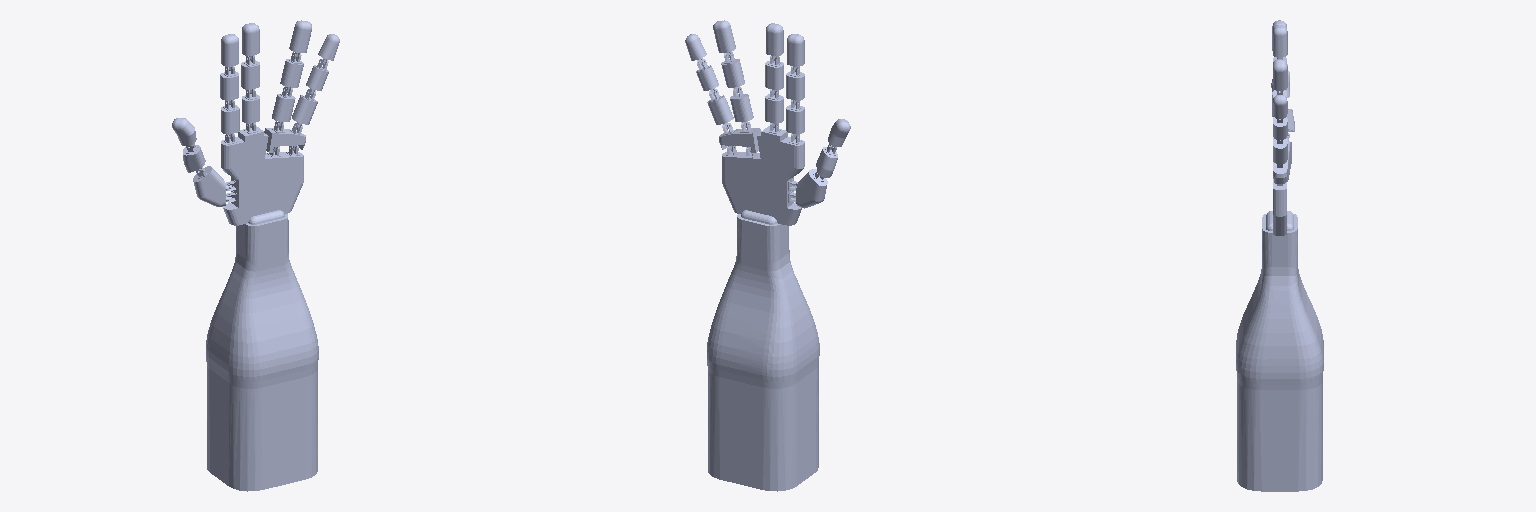
The robot description file, URDF, robot "simple_hand_5":
<?xml version="1.0" encoding="utf-8"?>
<!-- This URDF was automatically created by SolidWorks to URDF Exporter! Originally created by [author] ([email redacted]) 
     Commit Version: 1.6.0-1-g15f4949  Build Version: 1.6.7594.29634
     For more information, please see http://wiki.ros.org/sw_urdf_exporter -->
<robot
  name="simple_hand_5">
  <link
    name="base_link">
    <inertial>
      <origin
        xyz="-0.00188643436581484 7.91792044075349E-07 -0.0101107102609225"
        rpy="0 0 0" />
      <mass
        value="0.0547254839327603" />
      <inertia
        ixx="3.01578866609305E-05"
        ixy="2.75922512250193E-11"
        ixz="5.77313895814659E-06"
        iyy="4.6585768516949E-05"
        iyz="-3.08656421612924E-11"
        izz="1.82716186853849E-05" />
    </inertial>
    <visual>
      <origin
        xyz="0 0 0"
        rpy="0 0 0" />
      <geometry>
        <mesh
          filename="package://simple_hand_5/meshes/base_link.STL" />
      </geometry>
      <material
        name="">
        <color
          rgba="0.792156862745098 0.819607843137255 0.933333333333333 1" />
      </material>
    </visual>
    <collision>
      <origin
        xyz="0 0 0"
        rpy="0 0 0" />
      <geometry>
        <mesh
          filename="package://simple_hand_5/meshes/base_link.STL" />
      </geometry>
    </collision>
  </link>
  
  <link
    name = "t1_p_r2">
  </link>



  
  <joint
    name="thumb_palm"
    type="revolute">
    <origin
      xyz="-0.031 0 -0.0115"
      rpy="1.5708 -1.5232 -1.5708" />
    <parent
      link="base_link" />
    <child
      link="t1_p_r2" />
    <axis
      xyz="0.99887 0.047565 0" />
    <limit
      lower = "0"
      upper = "3.14159"
      effort="0"
      velocity="0" />
  </joint>

<link
    name="thumb_1">
    <inertial>
      <origin
        xyz="0.00656446410149199 0.00282639091707574 0.0153481144781045"
        rpy="0 0 0" />
      <mass
        value="0.00714658380829061" />
      <inertia
        ixx="3.28914052674748E-07"
        ixy="-3.19687494176202E-08"
        ixz="-8.92562543532266E-08"
        iyy="6.60299918641596E-07"
        iyz="-3.39907364457903E-08"
        izz="4.98668271185561E-07" />
    </inertial>
    <visual>
      <origin
        xyz="0 0 0"
        rpy="0 0 0" />
      <geometry>
        <mesh
          filename="package://simple_hand_5/meshes/thumb_1.STL" />
      </geometry>
      <material
        name="">
        <color
          rgba="0.792156862745098 0.819607843137255 0.933333333333333 1" />
      </material>
    </visual>
    <collision>
      <origin
        xyz="0 0 0"
        rpy="0 0 0" />
      <geometry>
        <mesh
          filename="package://simple_hand_5/meshes/thumb_1.STL" />
      </geometry>
    </collision>
  </link>


  <joint
    name="thumb_palm_updown"
    type="revolute">
    <origin
      xyz="0 0 0"
      rpy="0 0 0" />
    <parent
      link="t1_p_r2" />
    <child 
      link="thumb_1" />
    <axis
      xyz = "0 0 1" />
    <limit
      lower = "-1.5708"
      upper = "0"
      effort="0"
      velocity="0" />
  </joint>

  <link
    name="thumb_2">
    <inertial>
      <origin
        xyz="-0.000102121572845965 -0.00217472327567361 0.012595104514116"
        rpy="0 0 0" />
      <mass
        value="0.00309410697808252" />
      <inertia
        ixx="1.17680540570393E-07"
        ixy="4.78391767561254E-11"
        ixz="1.39867654791037E-11"
        iyy="8.75805619352312E-08"
        iyz="1.03790100805231E-08"
        izz="9.28672220581694E-08" />
    </inertial>
    <visual>
      <origin
        xyz="0 0 0"
        rpy="0 0 0" />
      <geometry>
        <mesh
          filename="package://simple_hand_5/meshes/thumb_2.STL" />
      </geometry>
      <material
        name="">
        <color
          rgba="0.792156862745098 0.819607843137255 0.933333333333333 1" />
      </material>
    </visual>
    <collision>
      <origin
        xyz="0 0 0"
        rpy="0 0 0" />
      <geometry>
        <mesh
          filename="package://simple_hand_5/meshes/thumb_2.STL" />
      </geometry>
    </collision>
  </link>
  <joint
    name="thumb_12"
    type="revolute">
    <origin
      xyz="0.024224 0.0052935 0.025382"
      rpy="0.85599 0.59602 1.2791" />
    <parent
      link="thumb_1" />
    <child
      link="thumb_2" />
    <axis
      xyz="1 0 0" />
    <limit
      lower = "0"
      upper = "1.7"
      effort="0"
      velocity="0" />
  </joint>
  <link
    name="thumb_3">
    <inertial>
      <origin
        xyz="-9.44001340211012E-05 0.000348151680325703 0.0149921053155283"
        rpy="0 0 0" />
      <mass
        value="0.00324861748801509" />
      <inertia
        ixx="1.54481533062546E-07"
        ixy="1.31041991197193E-12"
        ixz="-7.05991802677412E-13"
        iyy="1.38772740672812E-07"
        iyz="-1.39147869891025E-08"
        izz="7.86601648265061E-08" />
    </inertial>
    <visual>
      <origin
        xyz="0 0 0"
        rpy="0 0 0" />
      <geometry>
        <mesh
          filename="package://simple_hand_5/meshes/thumb_3.STL" />
      </geometry>
      <material
        name="">
        <color
          rgba="0.792156862745098 0.819607843137255 0.933333333333333 1" />
      </material>
    </visual>
    <collision>
      <origin
        xyz="0 0 0"
        rpy="0 0 0" />
      <geometry>
        <mesh
          filename="package://simple_hand_5/meshes/thumb_3.STL" />
      </geometry>
    </collision>
  </link>
  <joint
    name="thumb_23"
    type="revolute">
    <origin
      xyz="-0.00021585 -0.0073345 0.025772"
      rpy="0.26232 0.045694 -0.1685" />
    <parent
      link="thumb_2" />
    <child
      link="thumb_3" />
    <axis
      xyz="1 0 0" />
    <limit
      lower = "0"
      upper = "1.5708"
      effort="0"
      velocity="0" />
  </joint>
  <link
    name="index_1">
    <inertial>
      <origin
        xyz="-0.000100909995287488 -8.81239705495312E-05 0.0146314105773068"
        rpy="0 0 0" />
      <mass
        value="0.00331457639559618" />
      <inertia
        ixx="1.2323138903352E-07"
        ixy="-5.10048425602026E-22"
        ixz="6.26173426863822E-22"
        iyy="1.40564829901929E-07"
        iyz="-2.40449794199163E-20"
        izz="8.32166997991831E-08" />
    </inertial>
    <visual>
      <origin
        xyz="0 0 0"
        rpy="0 0 0" />
      <geometry>
        <mesh
          filename="package://simple_hand_5/meshes/index_1.STL" />
      </geometry>
      <material
        name="">
        <color
          rgba="0.792156862745098 0.819607843137255 0.933333333333333 1" />
      </material>
    </visual>
    <collision>
      <origin
        xyz="0 0 0"
        rpy="0 0 0" />
      <geometry>
        <mesh
          filename="package://simple_hand_5/meshes/index_1.STL" />
      </geometry>
    </collision>
  </link>
  <joint
    name="index_palm"
    type="revolute">
    <origin
      xyz="-0.0299 -0.000100000000000094 0.0385"
      rpy="0 0 0" />
    <parent
      link="base_link" />
    <child
      link="index_1" />
    <axis
      xyz="1 0 0" />
    <limit
      lower = "0"
      upper = "1.5708"
      effort="0"
      velocity="0" />
  </joint>
  <link
    name="index_2">
    <inertial>
      <origin
        xyz="-8.81239705526511E-05 8.81239705554417E-05 0.0146314105773068"
        rpy="0 0 0" />
      <mass
        value="0.00331457639559618" />
      <inertia
        ixx="1.2323138903352E-07"
        ixy="-5.08712711187573E-22"
        ixz="6.31594302457078E-22"
        iyy="1.40564829901929E-07"
        iyz="-2.3991825209698E-20"
        izz="8.32166997991831E-08" />
    </inertial>
    <visual>
      <origin
        xyz="0 0 0"
        rpy="0 0 0" />
      <geometry>
        <mesh
          filename="package://simple_hand_5/meshes/index_2.STL" />
      </geometry>
      <material
        name="">
        <color
          rgba="0.792156862745098 0.819607843137255 0.933333333333333 1" />
      </material>
    </visual>
    <collision>
      <origin
        xyz="0 0 0"
        rpy="0 0 0" />
      <geometry>
        <mesh
          filename="package://simple_hand_5/meshes/index_2.STL" />
      </geometry>
    </collision>
  </link>
  <joint
    name="index_12"
    type="revolute">
    <origin
      xyz="-0.000199999999999954 0 0.03"
      rpy="0 0 0" />
    <parent
      link="index_1" />
    <child
      link="index_2" />
    <axis
      xyz="1 0 0" />
    <limit
      lower = "0"
      upper = "1.5708"
      effort="0"
      velocity="0" />
  </joint>
  <link
    name="index_3">
    <inertial>
      <origin
        xyz="9.48443246826178E-05 -9.48443246826158E-05 0.0161226051015444"
        rpy="0 0 0" />
      <mass
        value="0.00352502395351663" />
      <inertia
        ixx="1.85717997302154E-07"
        ixy="6.14468395293522E-24"
        ixz="3.18734172922331E-23"
        iyy="1.97300854531169E-07"
        iyz="-4.20529993328854E-23"
        izz="8.01006878176001E-08" />
    </inertial>
    <visual>
      <origin
        xyz="0 0 0"
        rpy="0 0 0" />
      <geometry>
        <mesh
          filename="package://simple_hand_5/meshes/index_3.STL" />
      </geometry>
      <material
        name="">
        <color
          rgba="0.792156862745098 0.819607843137255 0.933333333333333 1" />
      </material>
    </visual>
    <collision>
      <origin
        xyz="0 0 0"
        rpy="0 0 0" />
      <geometry>
        <mesh
          filename="package://simple_hand_5/meshes/index_3.STL" />
      </geometry>
    </collision>
  </link>
  <joint
    name="index_23"
    type="revolute">
    <origin
      xyz="0 0 0.03"
      rpy="0 0 0" />
    <parent
      link="index_2" />
    <child
      link="index_3" />
    <axis
      xyz="1 0 0" />
    <limit
      lower = "0"
      upper = "1.5708"
      effort="0"
      velocity="0" />
  </joint>
  <link
    name="middle_1">
    <inertial>
      <origin
        xyz="-0.000100909995287489 -8.81239705493853E-05 0.0146314105773068"
        rpy="0 0 0" />
      <mass
        value="0.00331457639559618" />
      <inertia
        ixx="1.2323138903352E-07"
        ixy="-5.09096000185458E-22"
        ixz="6.33570028542927E-22"
        iyy="1.40564829901929E-07"
        iyz="-2.39760052887731E-20"
        izz="8.32166997991831E-08" />
    </inertial>
    <visual>
      <origin
        xyz="0 0 0"
        rpy="0 0 0" />
      <geometry>
        <mesh
          filename="package://simple_hand_5/meshes/middle_1.STL" />
      </geometry>
      <material
        name="">
        <color
          rgba="0.792156862745098 0.819607843137255 0.933333333333333 1" />
      </material>
    </visual>
    <collision>
      <origin
        xyz="0 0 0"
        rpy="0 0 0" />
      <geometry>
        <mesh
          filename="package://simple_hand_5/meshes/middle_1.STL" />
      </geometry>
    </collision>
  </link>
  <joint
    name="middle_palm"
    type="revolute">
    <origin
      xyz="-0.0104 9.99999999997445E-05 0.0435"
      rpy="0 0 0" />
    <parent
      link="base_link" />
    <child
      link="middle_1" />
    <axis
      xyz="1 0 0" />
    <limit
      lower = "0"
      upper = "1.5708"
      effort="0"
      velocity="0" />
  </joint>
  <link
    name="middle_2">
    <inertial>
      <origin
        xyz="-0.000100909995287486 8.81239705554263E-05 0.0146314105773068"
        rpy="0 0 0" />
      <mass
        value="0.00331457639559618" />
      <inertia
        ixx="1.2323138903352E-07"
        ixy="-5.09099193868169E-22"
        ixz="6.16644623926683E-22"
        iyy="1.40564829901928E-07"
        iyz="-2.40115634515997E-20"
        izz="8.32166997991831E-08" />
    </inertial>
    <visual>
      <origin
        xyz="0 0 0"
        rpy="0 0 0" />
      <geometry>
        <mesh
          filename="package://simple_hand_5/meshes/middle_2.STL" />
      </geometry>
      <material
        name="">
        <color
          rgba="0.792156862745098 0.819607843137255 0.933333333333333 1" />
      </material>
    </visual>
    <collision>
      <origin
        xyz="0 0 0"
        rpy="0 0 0" />
      <geometry>
        <mesh
          filename="package://simple_hand_5/meshes/middle_2.STL" />
      </geometry>
    </collision>
  </link>
  <joint
    name="middle_12"
    type="revolute">
    <origin
      xyz="-0.0002 0 0.03"
      rpy="0 0 0" />
    <parent
      link="middle_1" />
    <child
      link="middle_2" />
    <axis
      xyz="1 0 0" />
    <limit
      lower="0"
      upper="1.5708"
      effort="0"
      velocity="0" />
  </joint>
  <link
    name="middle_3">
    <inertial>
      <origin
        xyz="9.4844324682623E-05 9.48443246826267E-05 0.0161226051015443"
        rpy="0 0 0" />
      <mass
        value="0.00352502395351663" />
      <inertia
        ixx="1.85717997302155E-07"
        ixy="-1.782444112259E-24"
        ixz="-1.37156296528957E-23"
        iyy="1.97300854531171E-07"
        iyz="-3.01893462654807E-23"
        izz="8.01006878176001E-08" />
    </inertial>
    <visual>
      <origin
        xyz="0 0 0"
        rpy="0 0 0" />
      <geometry>
        <mesh
          filename="package://simple_hand_5/meshes/middle_3.STL" />
      </geometry>
      <material
        name="">
        <color
          rgba="0.792156862745098 0.819607843137255 0.933333333333333 1" />
      </material>
    </visual>
    <collision>
      <origin
        xyz="0 0 0"
        rpy="0 0 0" />
      <geometry>
        <mesh
          filename="package://simple_hand_5/meshes/middle_3.STL" />
      </geometry>
    </collision>
  </link>
  <joint
    name="middle_23"
    type="revolute">
    <origin
      xyz="-0.0002 0 0.03"
      rpy="0 0 0" />
    <parent
      link="middle_2" />
    <child
      link="middle_3" />
    <axis
      xyz="1 0 0" />
    <limit
      lower = "0"
      upper = "1.5708"
      effort="0"
      velocity="0" />
  </joint>
  <link
    name="ring_pinky_extra">
    <inertial>
      <origin
        xyz="-0.00218597870944811 8.3372865158956E-05 0.00920103616520317"
        rpy="0 0 0" />
      <mass
        value="0.00474638182867952" />
      <inertia
        ixx="1.07151593956447E-07"
        ixy="3.51645516818867E-12"
        ixz="1.82537199834801E-08"
        iyy="4.81107731413793E-07"
        iyz="-1.21973810407742E-12"
        izz="4.79343757387016E-07" />
    </inertial>
    <visual>
      <origin
        xyz="0 0 0"
        rpy="0 0 0" />
      <geometry>
        <mesh
          filename="package://simple_hand_5/meshes/ring_pinky_extra.STL" />
      </geometry>
      <material
        name="">
        <color
          rgba="0.792156862745098 0.819607843137255 0.933333333333333 1" />
      </material>
    </visual>
    <collision>
      <origin
        xyz="0 0 0"
        rpy="0 0 0" />
      <geometry>
        <mesh
          filename="package://simple_hand_5/meshes/ring_pinky_extra.STL" />
      </geometry>
    </collision>
  </link>
  <joint
    name="rp_palm"
    type="fixed">
    <origin
      xyz="0.020827 0.0001 0.015339"
      rpy="0 0.17453 0" />
    <parent
      link="base_link" />
    <child
      link="ring_pinky_extra" />
<!--     <axis
      xyz="1 0 0" /> -->
  </joint>
  <link
    name="ring_1">
    <inertial>
      <origin
        xyz="-8.8123970554731E-05 -8.81239705502135E-05 0.014631410577307"
        rpy="0 0 0" />
      <mass
        value="0.00331457639559613" />
      <inertia
        ixx="1.23231389033519E-07"
        ixy="-5.3866823701568E-22"
        ixz="6.60090128817321E-22"
        iyy="1.40564829901928E-07"
        iyz="-2.4173296286093E-20"
        izz="8.32166997991829E-08" />
    </inertial>
    <visual>
      <origin
        xyz="0 0 0"
        rpy="0 0 0" />
      <geometry>
        <mesh
          filename="package://simple_hand_5/meshes/ring_1.STL" />
      </geometry>
      <material
        name="">
        <color
          rgba="0.792156862745098 0.819607843137255 0.933333333333333 1" />
      </material>
    </visual>
    <collision>
      <origin
        xyz="0 0 0"
        rpy="0 0 0" />
      <geometry>
        <mesh
          filename="package://simple_hand_5/meshes/ring_1.STL" />
      </geometry>
    </collision>
  </link>
  <joint
    name="ring_rp"
    type="revolute">
    <origin
      xyz="-0.00835527166225281 0 0.0211859535805005"
      rpy="0 0.08726646259971 0" />
    <parent
      link="ring_pinky_extra" />
    <child
      link="ring_1" />
    <axis
      xyz="1 0 0" />
    <limit
      lower = "0"
      upper = "1.5708"
      effort="0"
      velocity="0" />
  </joint>
  <link
    name="ring_2">
    <inertial>
      <origin
        xyz="0.00010090999528703 -0.000100909995285028 0.014631410577307"
        rpy="0 0 0" />
      <mass
        value="0.00331457639559613" />
      <inertia
        ixx="1.2323138903352E-07"
        ixy="-5.46028125220579E-22"
        ixz="9.89308012613422E-22"
        iyy="1.40564829901928E-07"
        iyz="-2.41851050166125E-20"
        izz="8.3216699799183E-08" />
    </inertial>
    <visual>
      <origin
        xyz="0 0 0"
        rpy="0 0 0" />
      <geometry>
        <mesh
          filename="package://simple_hand_5/meshes/ring_2.STL" />
      </geometry>
      <material
        name="">
        <color
          rgba="0.792156862745098 0.819607843137255 0.933333333333333 1" />
      </material>
    </visual>
    <collision>
      <origin
        xyz="0 0 0"
        rpy="0 0 0" />
      <geometry>
        <mesh
          filename="package://simple_hand_5/meshes/ring_2.STL" />
      </geometry>
    </collision>
  </link>
  <joint
    name="ring_12"
    type="revolute">
    <origin
      xyz="0 0 0.03"
      rpy="0 0 0" />
    <parent
      link="ring_1" />
    <child
      link="ring_2" />
    <axis
      xyz="1 0 0" />
    <limit
      lower = "0"
      upper = "1.5708"
      effort="0"
      velocity="0" />
  </joint>
  <link
    name="ring_3">
    <inertial>
      <origin
        xyz="9.48443246822361E-05 9.48443246819254E-05 0.0161226051015448"
        rpy="0 0 0" />
      <mass
        value="0.00352502395351663" />
      <inertia
        ixx="1.85717997302152E-07"
        ixy="-1.89423522291191E-23"
        ixz="8.18908806427496E-22"
        iyy="1.97300854531167E-07"
        iyz="6.06190709170196E-23"
        izz="8.01006878176002E-08" />
    </inertial>
    <visual>
      <origin
        xyz="0 0 0"
        rpy="0 0 0" />
      <geometry>
        <mesh
          filename="package://simple_hand_5/meshes/ring_3.STL" />
      </geometry>
      <material
        name="">
        <color
          rgba="0.792156862745098 0.819607843137255 0.933333333333333 1" />
      </material>
    </visual>
    <collision>
      <origin
        xyz="0 0 0"
        rpy="0 0 0" />
      <geometry>
        <mesh
          filename="package://simple_hand_5/meshes/ring_3.STL" />
      </geometry>
    </collision>
  </link>
  <joint
    name="ring_23"
    type="revolute">
    <origin
      xyz="0.000199999999999961 -0.000199999999999982 0.03"
      rpy="0 0 0" />
    <parent
      link="ring_2" />
    <child
      link="ring_3" />
    <axis
      xyz="1 0 0" />
    <limit
      lower = "0"
      upper = "1.5708"
      effort="0"
      velocity="0" />
  </joint>
  <link
    name="pinky_1">
    <inertial>
      <origin
        xyz="-0.000100909995290183 0.000100909995290285 0.0146314105773061"
        rpy="0 0 0" />
      <mass
        value="0.00331457639559618" />
      <inertia
        ixx="1.2323138903352E-07"
        ixy="-5.0509194649958E-22"
        ixz="9.36368453410027E-22"
        iyy="1.40564829901929E-07"
        iyz="-2.40935166969695E-20"
        izz="8.32166997991832E-08" />
    </inertial>
    <visual>
      <origin
        xyz="0 0 0"
        rpy="0 0 0" />
      <geometry>
        <mesh
          filename="package://simple_hand_5/meshes/pinky_1.STL" />
      </geometry>
      <material
        name="">
        <color
          rgba="0.792156862745098 0.819607843137255 0.933333333333333 1" />
      </material>
    </visual>
    <collision>
      <origin
        xyz="0 0 0"
        rpy="0 0 0" />
      <geometry>
        <mesh
          filename="package://simple_hand_5/meshes/pinky_1.STL" />
      </geometry>
    </collision>
  </link>
  <joint
    name="pinky_rp"
    type="revolute">
    <origin
      xyz="0.00975174070266939 0 0.0184546186727577"
      rpy="0 0.261799387799152 0" />
    <parent
      link="ring_pinky_extra" />
    <child
      link="pinky_1" />
    <axis
      xyz="1 0 0" />
    <limit
      lower = "0"
      upper = "1.5708"
      effort="0"
      velocity="0" />
  </joint>
  <link
    name="pinky_2">
    <inertial>
      <origin
        xyz="8.38071970207001E-05 -8.38071970183258E-05 0.0129292550716577"
        rpy="0 0 0" />
      <mass
        value="0.00243095694657694" />
      <inertia
        ixx="6.85523277747315E-08"
        ixy="-5.08692986541908E-22"
        ixz="5.57519732860741E-22"
        iyy="7.24913923580196E-08"
        iyz="-2.4018378471524E-20"
        izz="5.02538415032837E-08" />
    </inertial>
    <visual>
      <origin
        xyz="0 0 0"
        rpy="0 0 0" />
      <geometry>
        <mesh
          filename="package://simple_hand_5/meshes/pinky_2.STL" />
      </geometry>
      <material
        name="">
        <color
          rgba="0.792156862745098 0.819607843137255 0.933333333333333 1" />
      </material>
    </visual>
    <collision>
      <origin
        xyz="0 0 0"
        rpy="0 0 0" />
      <geometry>
        <mesh
          filename="package://simple_hand_5/meshes/pinky_2.STL" />
      </geometry>
    </collision>
  </link>
  <joint
    name="pinky_12"
    type="revolute">
    <origin
      xyz="-0.000200000000001081 0.000199999999998815 0.0299999999999998"
      rpy="0 0 0" />
    <parent
      link="pinky_1" />
    <child
      link="pinky_2" />
    <axis
      xyz="1 0 0" />
    <limit
      lower = "0"
      upper = "1.5708"
      effort="0"
      velocity="0" />
  </joint>
  <link
    name="pinky_3">
    <inertial>
      <origin
        xyz="9.19157325409842E-05 -9.19326081215429E-05 0.0130882404924844"
        rpy="0 0 0" />
      <mass
        value="0.00224742035804122" />
      <inertia
        ixx="7.84638438602691E-08"
        ixy="1.75519852392165E-12"
        ixz="7.56151719955334E-15"
        iyy="7.77279503022178E-08"
        iyz="-6.27007156099703E-14"
        izz="4.07217895790225E-08" />
    </inertial>
    <visual>
      <origin
        xyz="0 0 0"
        rpy="0 0 0" />
      <geometry>
        <mesh
          filename="package://simple_hand_5/meshes/pinky_3.STL" />
      </geometry>
      <material
        name="">
        <color
          rgba="0.792156862745098 0.819607843137255 0.933333333333333 1" />
      </material>
    </visual>
    <collision>
      <origin
        xyz="0 0 0"
        rpy="0 0 0" />
      <geometry>
        <mesh
          filename="package://simple_hand_5/meshes/pinky_3.STL" />
      </geometry>
    </collision>
  </link>
  <joint
    name="pinky_23"
    type="revolute">
    <origin
      xyz="0 0 0.0267500000000002"
      rpy="0 0 0" />
    <parent
      link="pinky_2" />
    <child
      link="pinky_3" />
    <axis
      xyz="1 0 0" />
    <limit
      lower = "0"
      upper = "1.5708"
      effort="0"
      velocity="0" />
  </joint>
</robot>

--- Render facts (derived) ---
3 views of the same robot in one strip: view 1: azimuth 30°, elevation 25°; view 2: azimuth 150°, elevation 25°; view 3: azimuth 270°, elevation 25° (orthographic).
Model simple_hand_5 with 18 links and 17 joints (16 revolute, 1 fixed), rooted at base_link, posed all joints at 0.
Links seen in each view (by area): view 1: base_link, thumb_1, ring_pinky_extra, pinky_1, ring_2, ring_1, index_2, ring_3, index_1, middle_2, middle_3, index_3 (+1 smaller); view 2: base_link, thumb_1, ring_pinky_extra, ring_2, pinky_1, ring_1, middle_2, ring_3, index_2, middle_1, index_1, index_3 (+1 smaller); view 3: base_link.
Link boxes in pixels (x1,y1,x2,y2): base_link: (206,123,318,491); thumb_1: (193,166,231,206); ring_pinky_extra: (264,121,305,152); pinky_1: (292,89,317,129); ring_2: (280,52,303,92); ring_1: (272,87,295,127); index_2: (220,66,238,104); ring_3: (289,20,311,58); index_1: (221,100,239,138); middle_2: (241,55,259,93); middle_3: (242,23,259,60); index_3: (221,34,238,70); base_link: (707,123,819,491); thumb_1: (793,169,827,208); ring_pinky_extra: (719,122,760,152); ring_2: (721,52,744,92); pinky_1: (707,89,733,129); ring_1: (730,87,753,127); middle_2: (765,56,783,94); ring_3: (713,20,735,58); index_2: (786,66,804,104); middle_1: (765,89,783,127); index_1: (786,100,804,138); index_3: (787,34,804,71); base_link: (1236,179,1323,491).
Bounding box of the posed robot: 0.153 × 0.0721 × 0.398 m (x, y, z).
Meshes: 17 distinct files referenced, 17 mesh visuals loaded (17 binary STL).